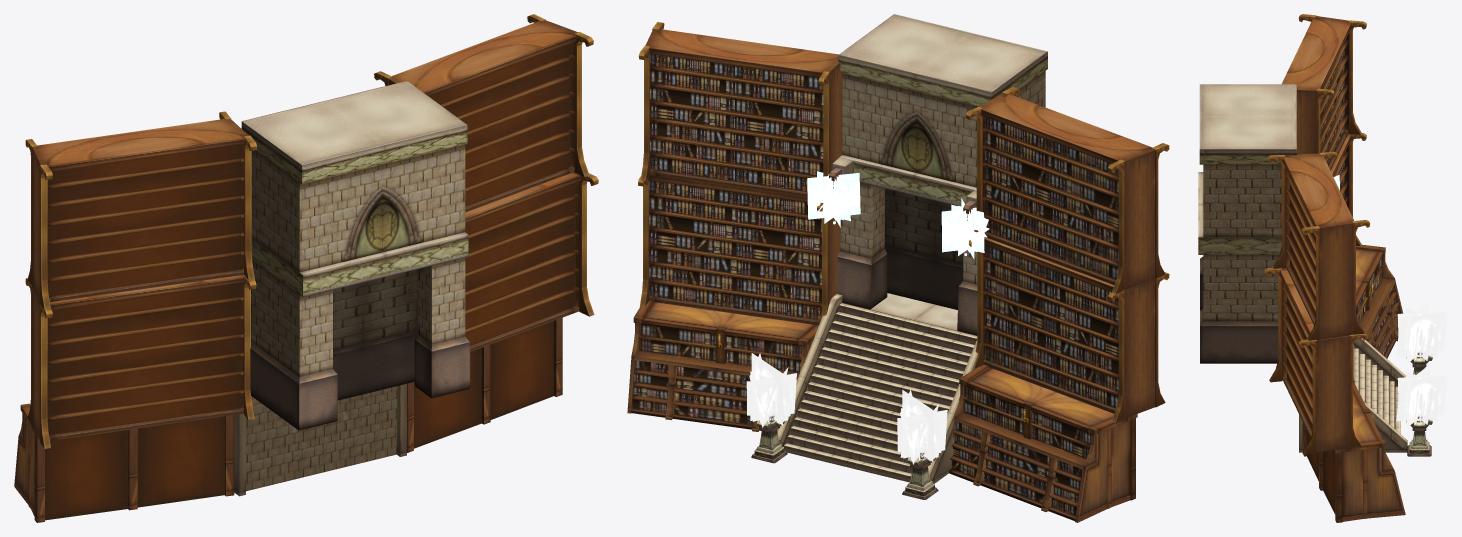
File: a_fd05door01.glb
3 renders of one model, left to right at view 1: azimuth 30°, elevation 25°; view 2: azimuth 150°, elevation 25°; view 3: azimuth 270°, elevation 25°, orthographic. The views are drawn at different scales.
Visible parts, largest first — view 1: a_fd05door01; view 2: a_fd05door01; view 3: a_fd05door01.
Boxes of the visible parts, x1,y1,x2,y2 form: a_fd05door01: (14, 14, 598, 522); a_fd05door01: (627, 14, 1169, 522); a_fd05door01: (1198, 14, 1447, 522).
Bounding box in the file's own units: 17.17 × 11.27 × 8.34.
15 materials, 15 textured.
